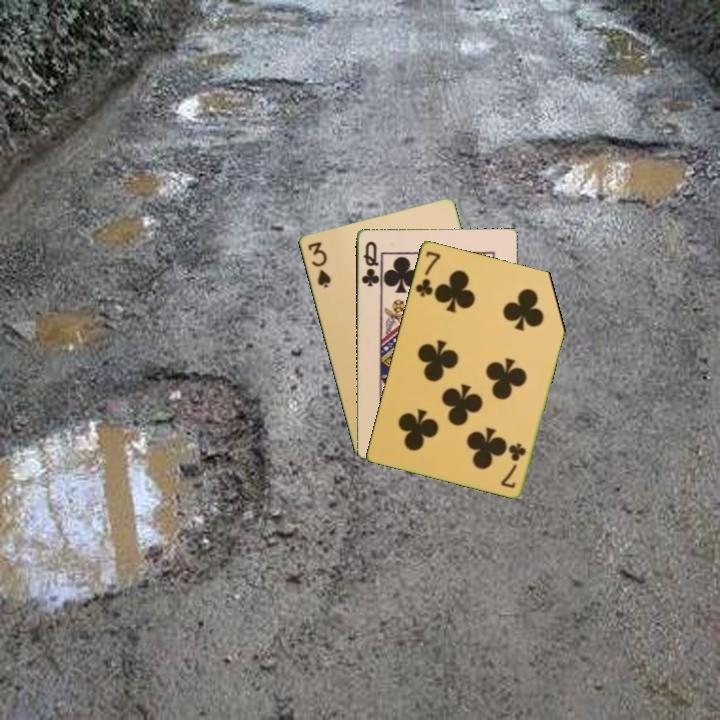3s: (304, 238, 334, 291)
7c: (412, 247, 443, 299), (498, 439, 529, 491)
Qc: (358, 238, 382, 289)
